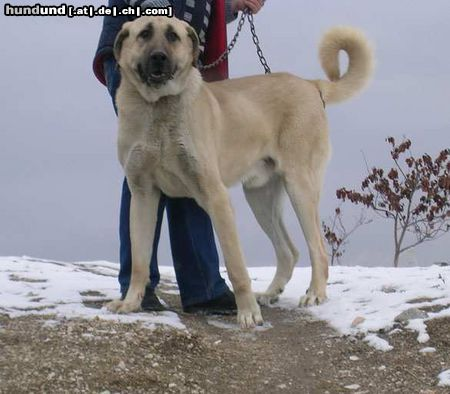kangal: (102, 16, 378, 327)
person: (92, 0, 265, 315)
